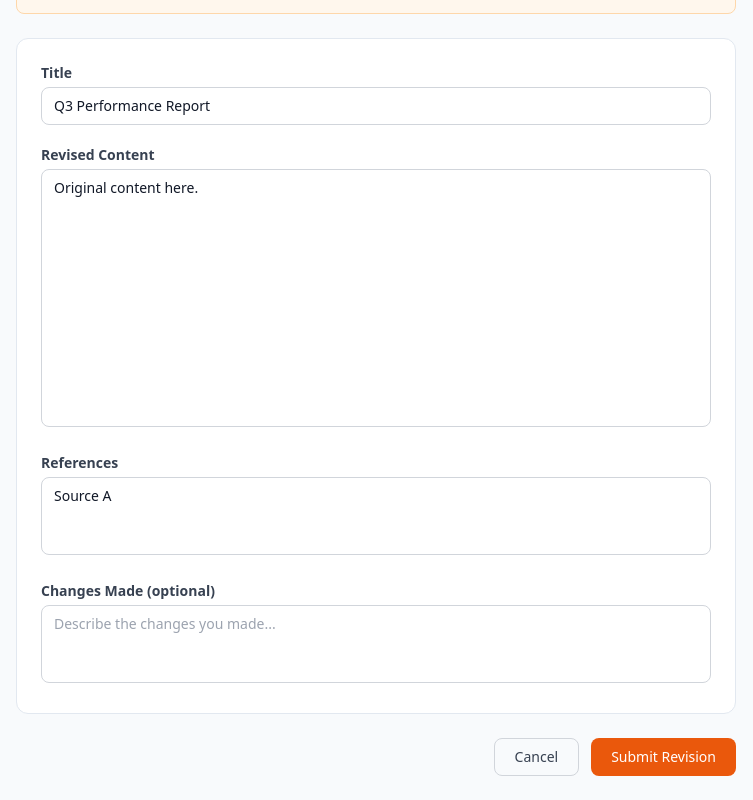
Test case: EmployeeReviseReportPage (GCS §38 report revision) › surfaces an error when the revision request fails
This screenshot has width=753, height=800.
(page scrolled)
Click the button "Submit Revision".
click(664, 757)  # box 591,738 -> 736,776
(page scrolled)
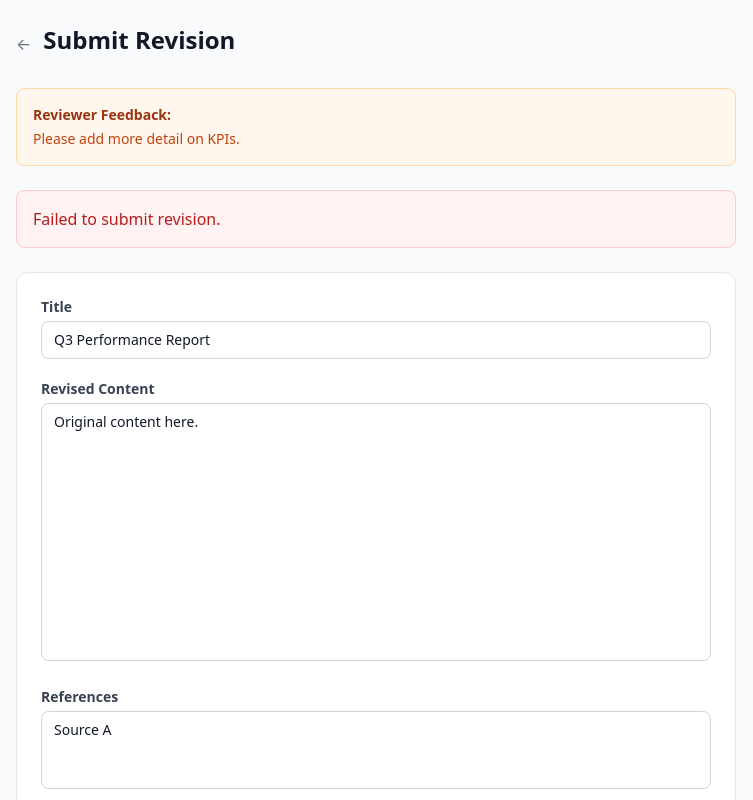
Expected: the heading "Submit Revision" is shown, 43,24 -> 235,56
Now the text "Failed to submit revision." is shown, box 16,190 -> 736,248
